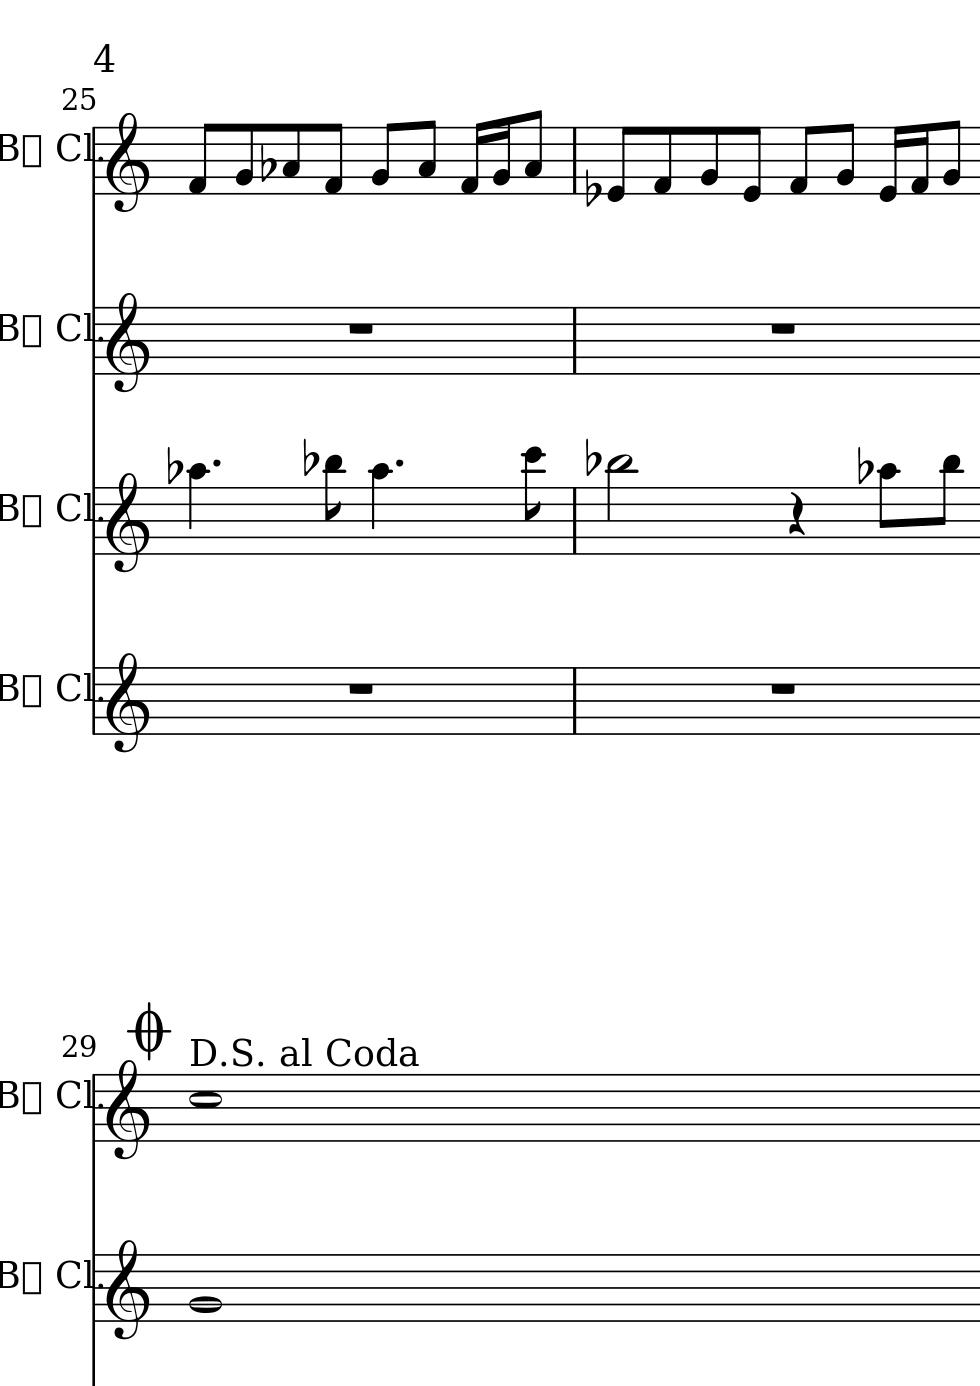16_0: (874, 124, 905, 204)
16_1: (457, 119, 487, 197), (908, 122, 930, 197)
16_2: (491, 115, 511, 197)
1_2: (187, 1251, 224, 1324)
1_5: (188, 1073, 223, 1144)
2: (60, 1033, 78, 1062), (60, 86, 78, 113)
2_11: (603, 453, 634, 559)
4: (92, 41, 116, 73)
4_10: (368, 462, 396, 558), (183, 461, 210, 557)
5: (78, 85, 97, 113)
8_0: (606, 124, 635, 204), (739, 124, 765, 206)
8_1: (186, 121, 215, 196), (787, 124, 813, 197), (650, 124, 673, 198), (322, 121, 344, 197)
8_10: (875, 461, 900, 557)
8_11: (931, 453, 963, 558), (321, 453, 345, 557)
8_12: (521, 444, 549, 558)
8_2: (369, 121, 396, 197), (833, 121, 856, 198), (941, 118, 963, 197), (698, 124, 721, 197), (232, 121, 255, 196)
8_3: (522, 108, 544, 196), (280, 122, 303, 197), (415, 119, 437, 197)
9: (78, 1033, 97, 1060)
Cl: (56, 308, 92, 344), (55, 1256, 91, 1291), (55, 489, 90, 524), (55, 1076, 90, 1110), (56, 669, 91, 702), (56, 131, 90, 164)
Coda: (127, 1000, 170, 1062)
DSalcoda: (185, 1036, 423, 1071)
Flat: (581, 166, 601, 209), (258, 141, 276, 183), (583, 435, 600, 477), (301, 436, 317, 477), (165, 445, 181, 486), (856, 445, 872, 485)
Gclef: (104, 112, 153, 216), (104, 290, 151, 394), (104, 472, 151, 575), (104, 1057, 150, 1161), (104, 652, 150, 755), (104, 1238, 148, 1343)
Rests1: (343, 678, 378, 698), (765, 679, 800, 699), (344, 319, 377, 338), (765, 320, 799, 338)
Rests4: (785, 490, 807, 538)
Single_barline: (564, 127, 583, 194), (88, 1073, 105, 1143), (88, 127, 105, 196), (89, 487, 106, 556), (88, 1255, 105, 1323), (566, 308, 583, 373), (89, 308, 105, 376), (566, 668, 582, 735), (89, 667, 104, 735), (567, 488, 582, 554)
dot: (210, 457, 223, 471), (392, 458, 405, 470)
